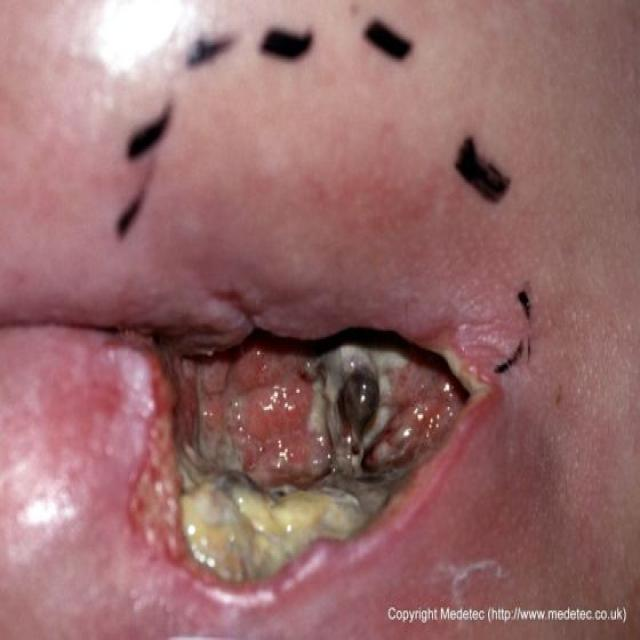stage-4: (131, 328, 489, 583)
